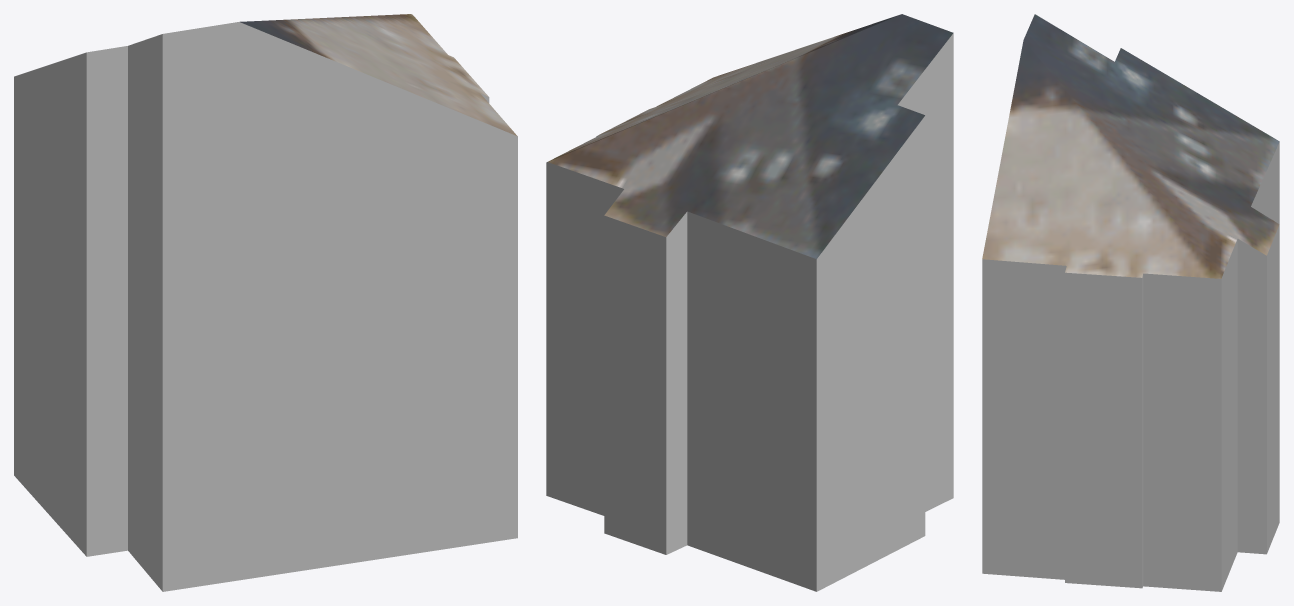
The model's file is DEBW_0010007TxaA.gltf.
The picture shows the model from 3 angles, left to right: view 1: azimuth 30°, elevation 25°; view 2: azimuth 150°, elevation 25°; view 3: azimuth 270°, elevation 25°; orthographic projection. The views are drawn at different scales.
Visible parts, largest first — view 1: Z_UP; view 2: Z_UP; view 3: Z_UP.
Part boxes in pixels (bbox=[...]): Z_UP: bbox=[14, 14, 517, 591]; Z_UP: bbox=[546, 14, 953, 591]; Z_UP: bbox=[982, 14, 1279, 591].
Size of the model in its own units: 16.08 by 21.98 by 13.56.
Materials: 2 (1 with a texture image).
